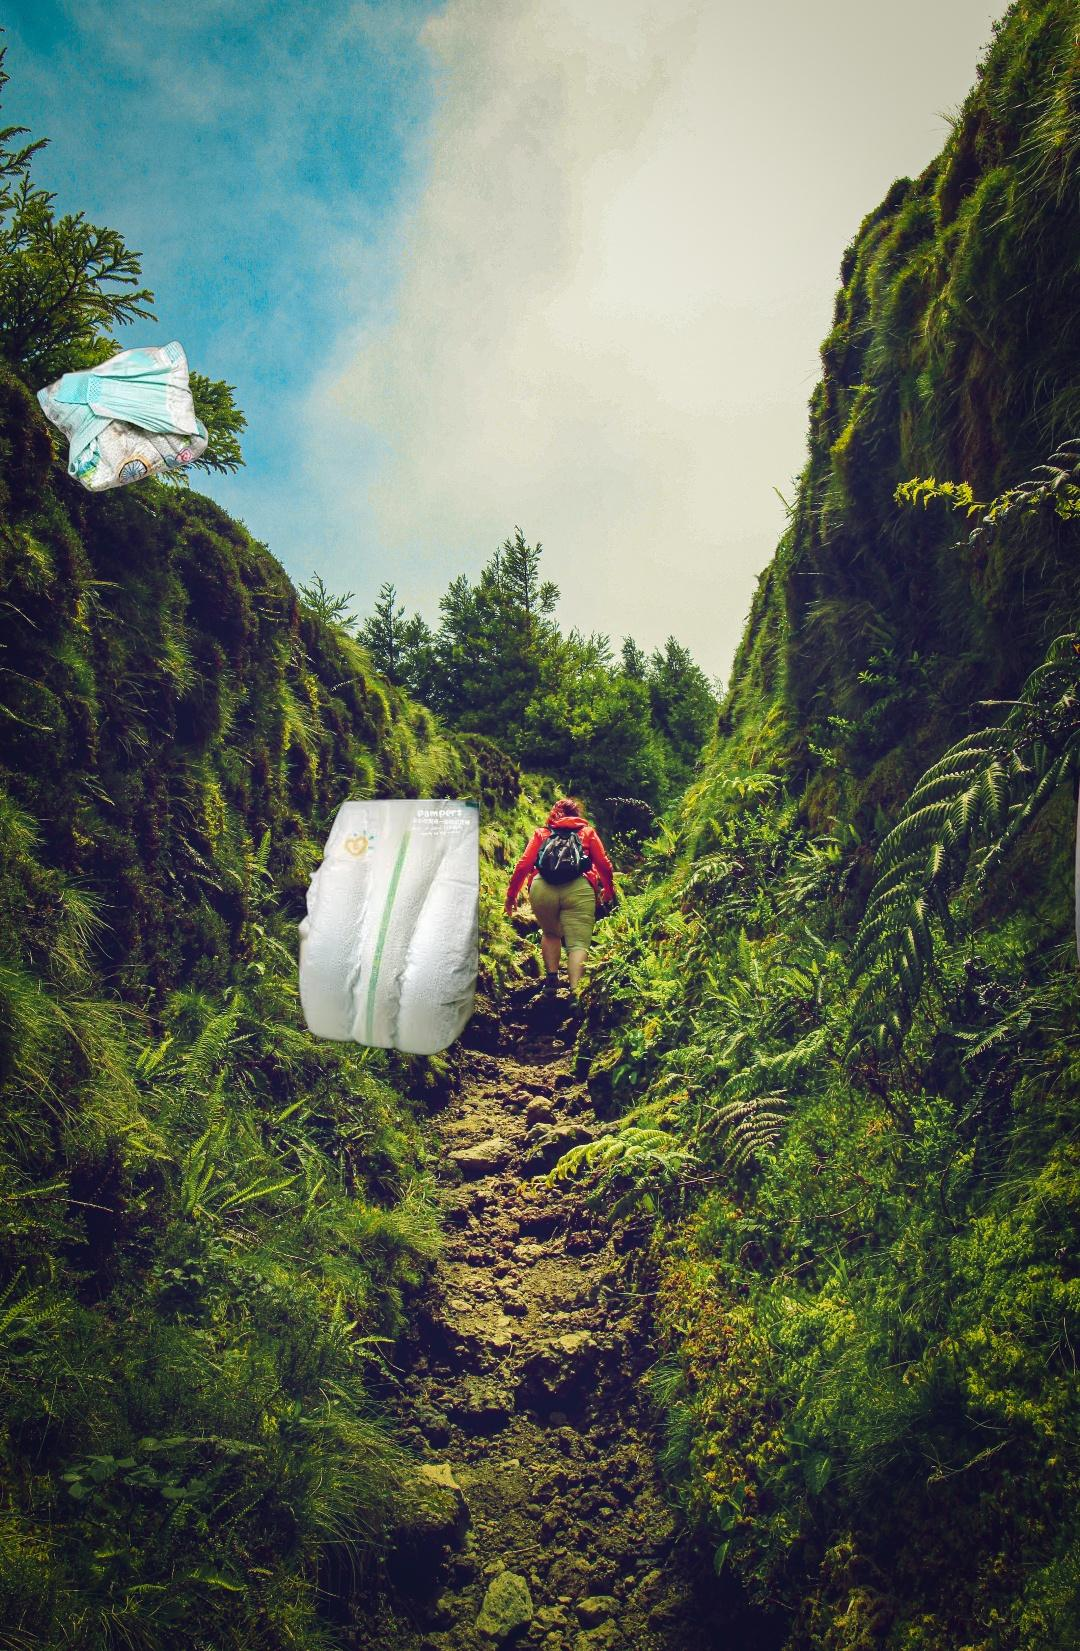clothes: (1072, 510, 1080, 1028)
trash: (290, 799, 481, 1064), (34, 337, 212, 495)
